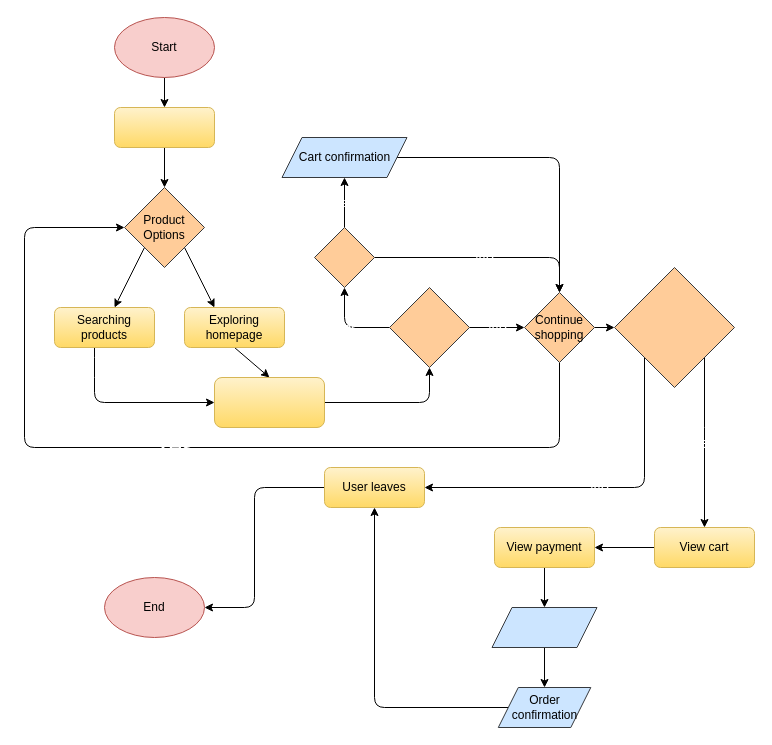
This 772x745 diagram has some shape labels left out. The shapes that lost their labels are listed below. From the top down, each one's centre as x and y in pixels, then its label:
At pixel 164 127: "User arrives".
At pixel 344 257: "Add to cart".
At pixel 429 327: "Viewing product".
At pixel 674 327: "Check out".
At pixel 269 402: "Looking over products".
At pixel 544 627: "Payment info".
